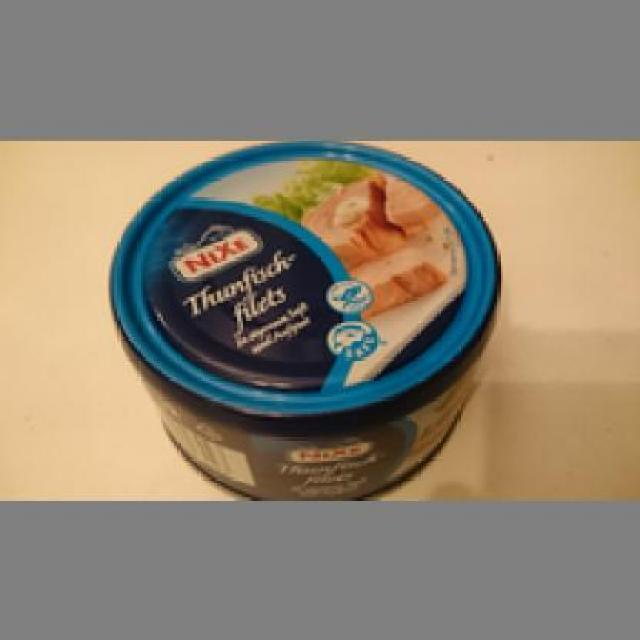Fish: (109, 137, 500, 497)
